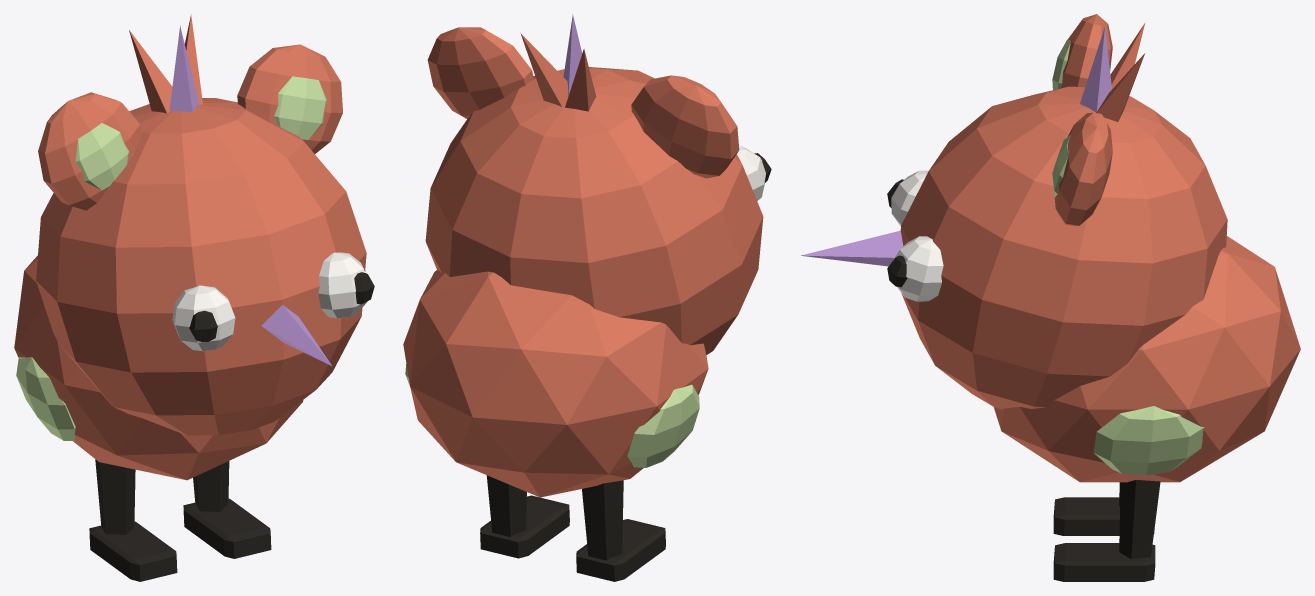
Rendered from bird-forest-1.glb.
3 renders of one model, left to right at view 1: azimuth 30°, elevation 25°; view 2: azimuth 150°, elevation 25°; view 3: azimuth 270°, elevation 25°, orthographic. The views are drawn at different scales.
Parts seen in each view (by area): view 1: bird-forest-1; view 2: bird-forest-1; view 3: bird-forest-1.
Boxes of the visible parts, x1,y1,x2,y2 form: bird-forest-1: (14, 14, 374, 581); bird-forest-1: (403, 14, 771, 581); bird-forest-1: (801, 14, 1300, 581).
Bounding box in the file's own units: 0.5324 × 0.9 × 0.7802.
